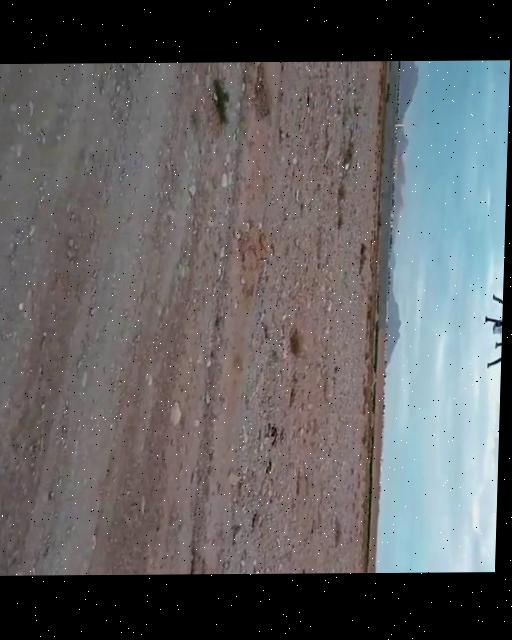drone: (484, 279, 505, 385)
